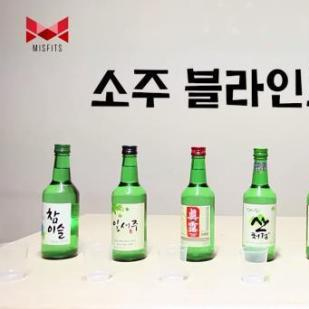soju: (108, 141, 281, 263), (38, 142, 82, 262)
